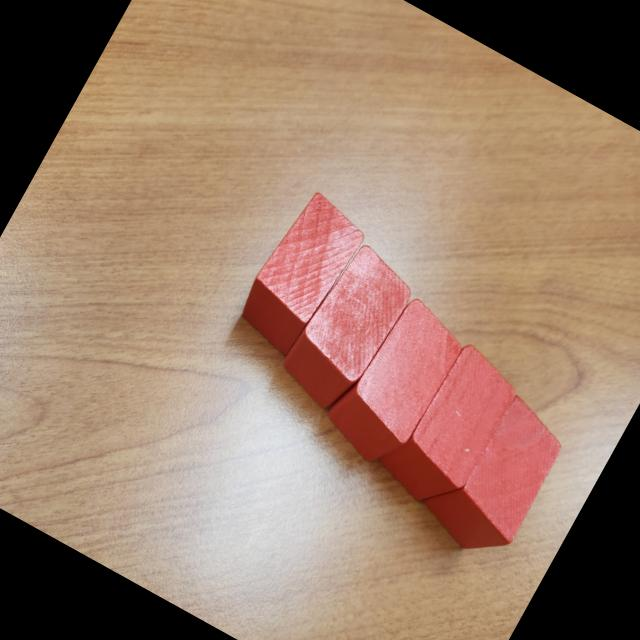red: (410, 378, 576, 569), (367, 330, 529, 521), (314, 286, 474, 478), (272, 238, 423, 422), (228, 184, 374, 363)
